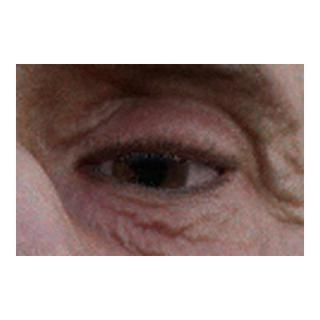pupil: (131, 152, 167, 188)
